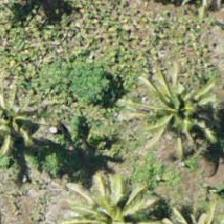coconut_tree: (0, 84, 67, 174)
